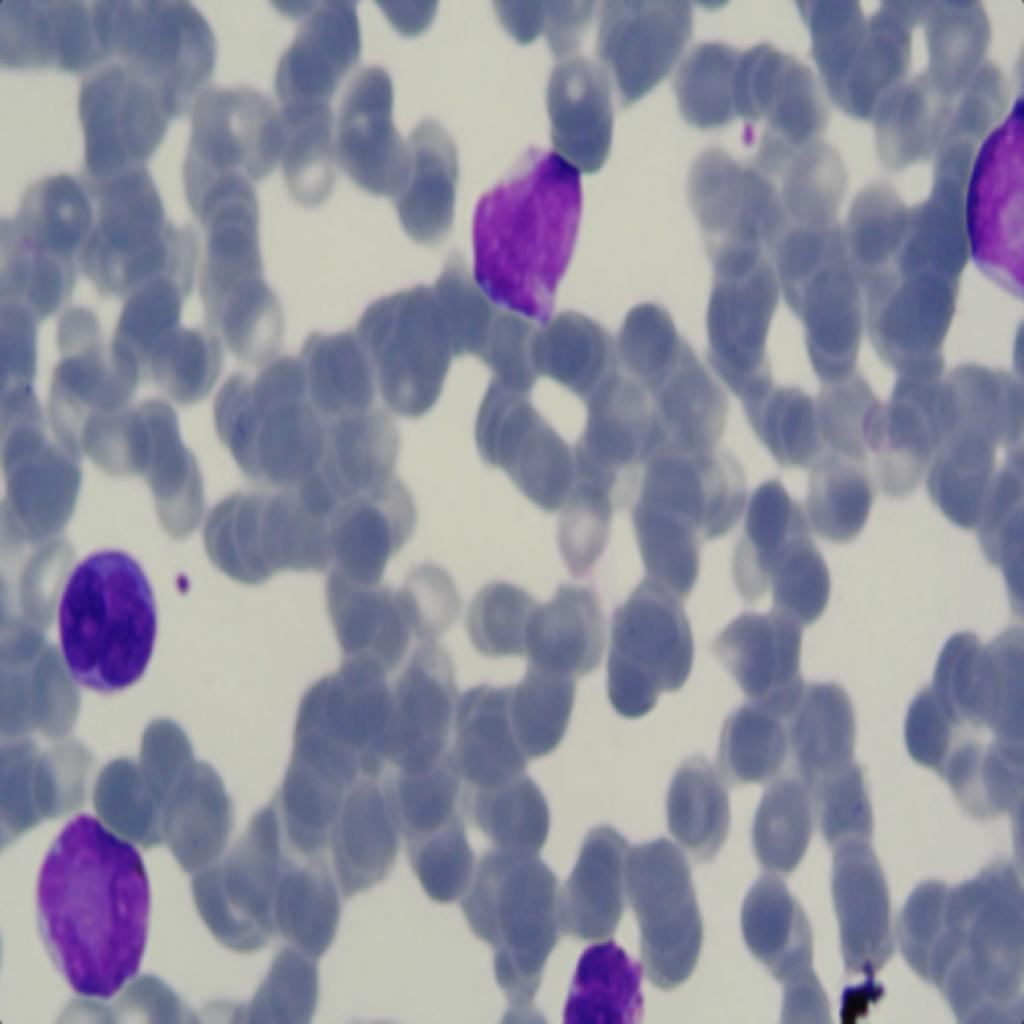Myeoblast: (24, 795, 156, 995), (468, 134, 596, 328), (54, 531, 165, 700)
Platelet: (168, 558, 201, 608), (728, 106, 754, 156)
